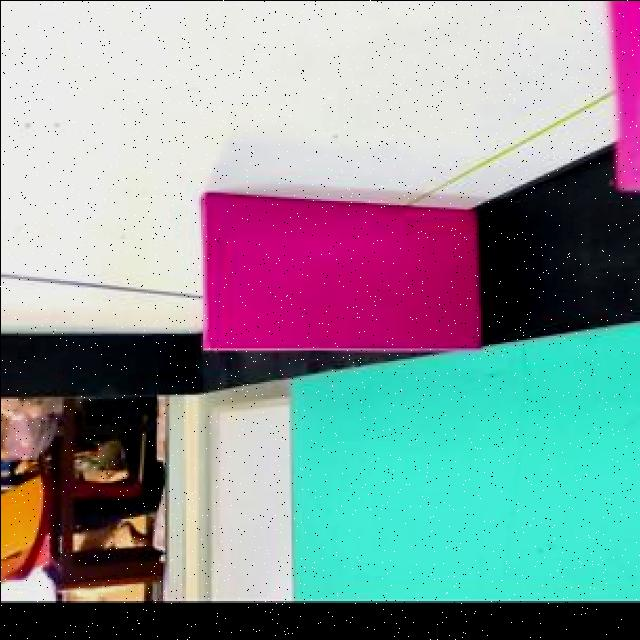xparking: (208, 205, 467, 344), (619, 4, 640, 183)
